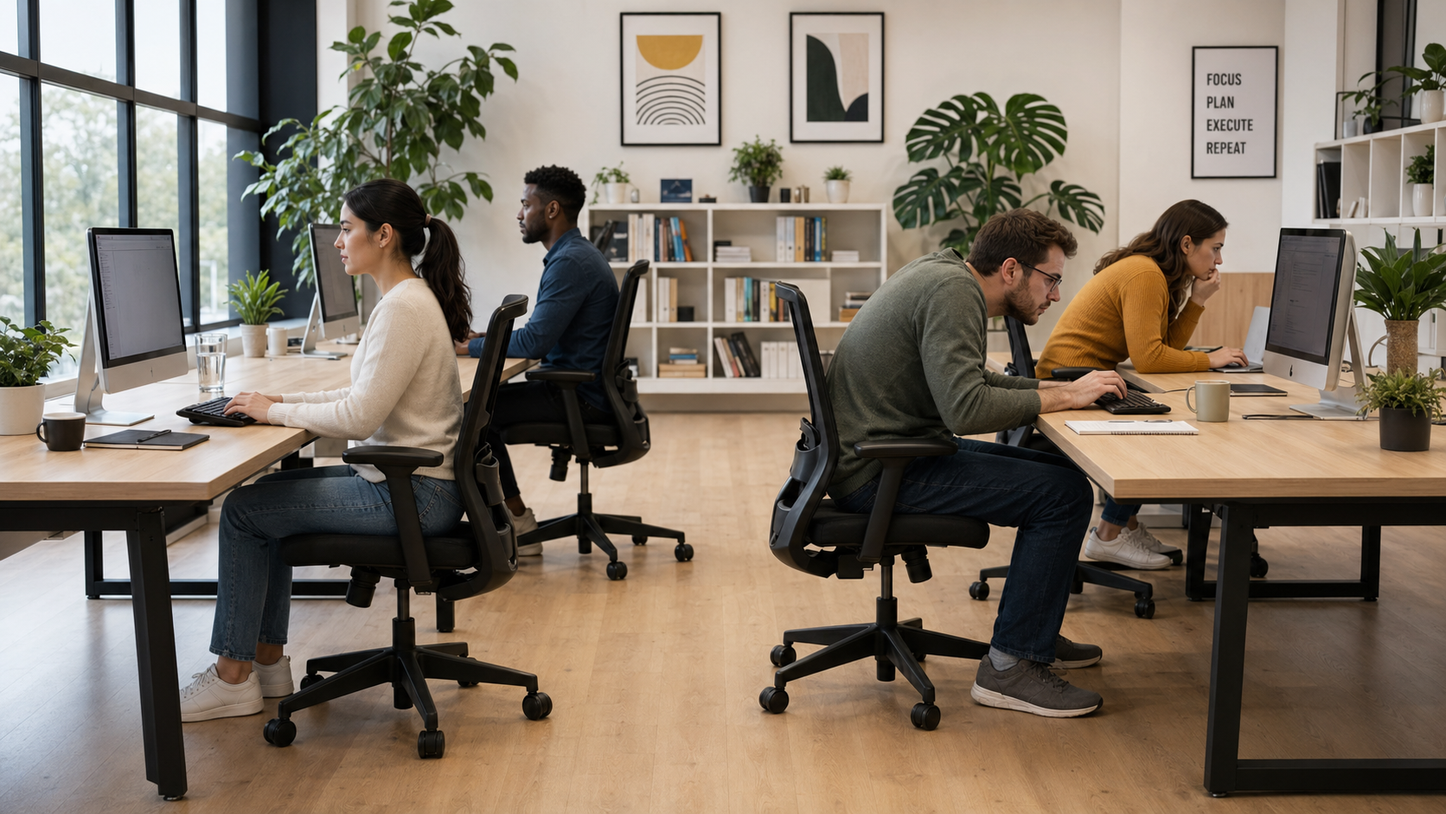sitting_bad: (814, 178, 1075, 605), (1041, 193, 1253, 396)
sitting_good: (194, 166, 495, 597), (458, 165, 651, 448)
